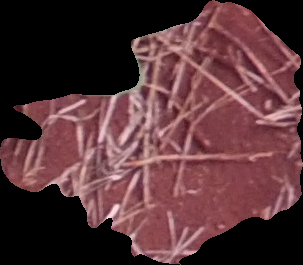soil: (3, 3, 303, 264)
